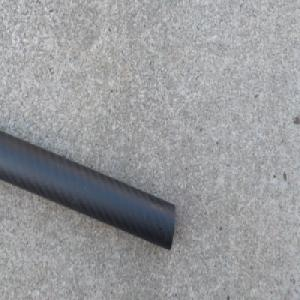LuggagePart: (0, 125, 176, 252)
